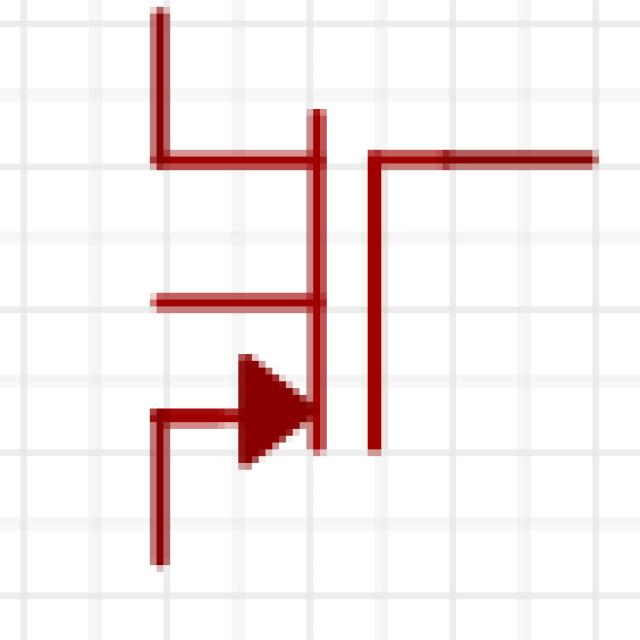pmos: (71, 12, 600, 542)
